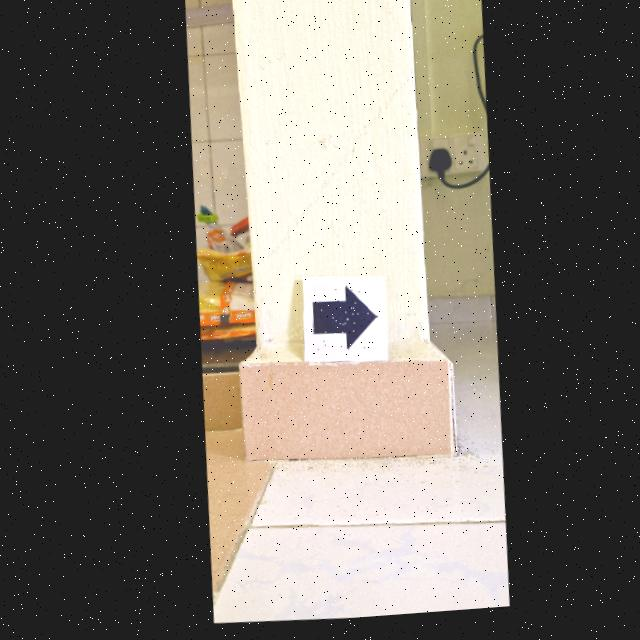RIGHT: (306, 292, 370, 353)
